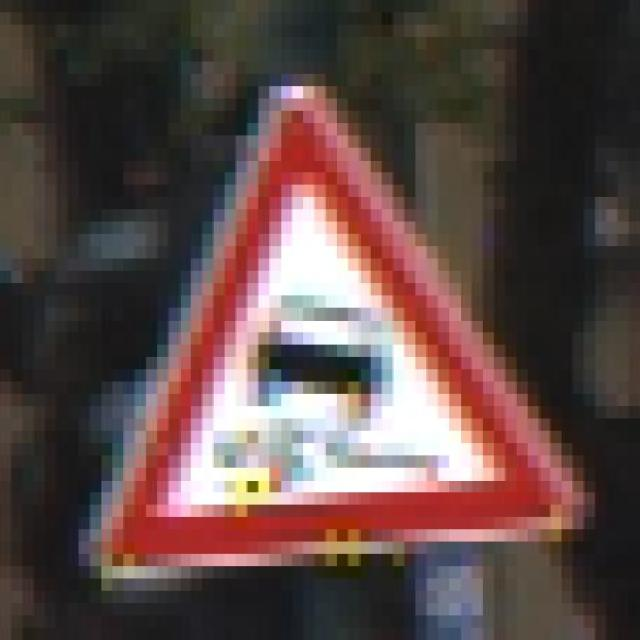Slippery Road Ahead: (68, 74, 595, 603)
